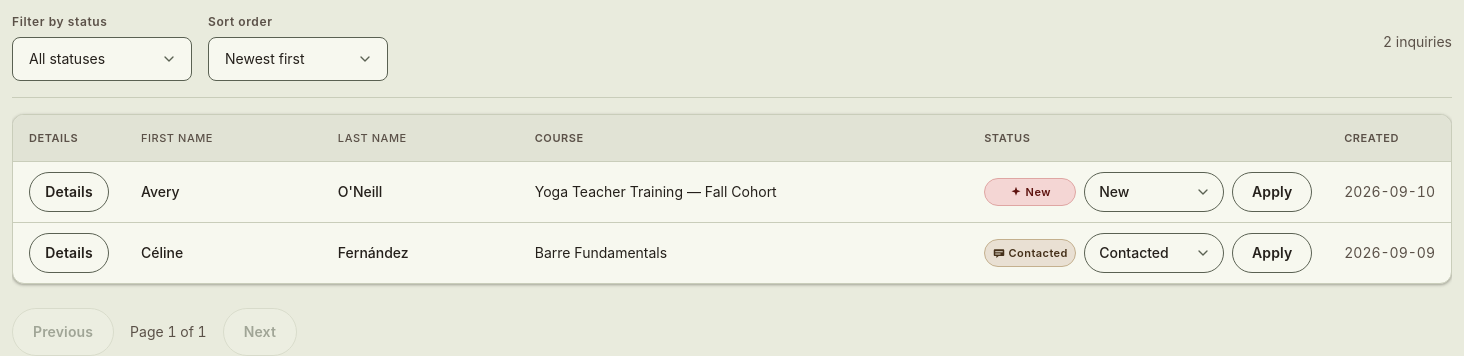
IT-UI-029 success and failure announce in their dedicated regions › routes saved to the status region and failure to the alert region
(page scrolled)
Select "Contacted" in the dropdown named "Status for Avery O'Neill" at (1154, 192), box [1084,172,1224,212]
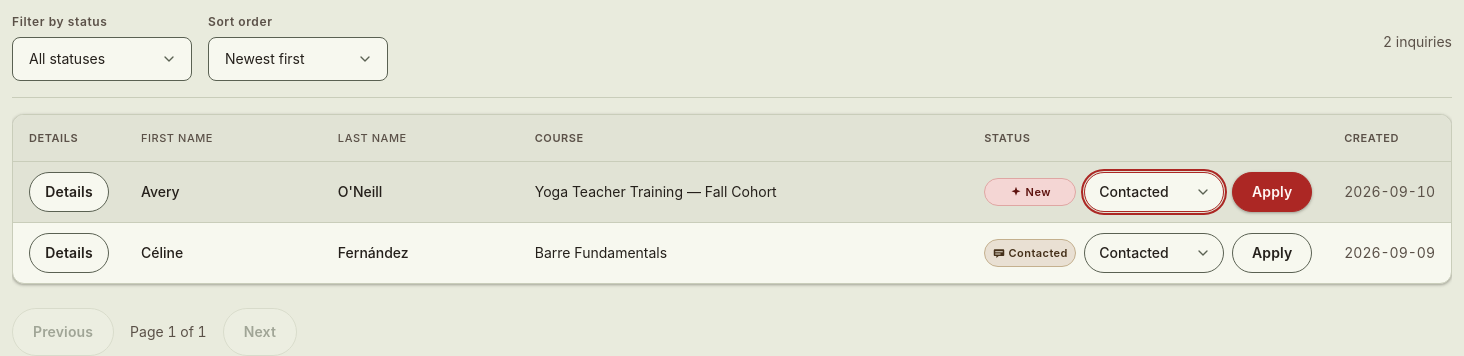
Click the button with aria-label "Apply for Avery O'Neill".
click(1272, 192)  # box [1232,172,1312,212]
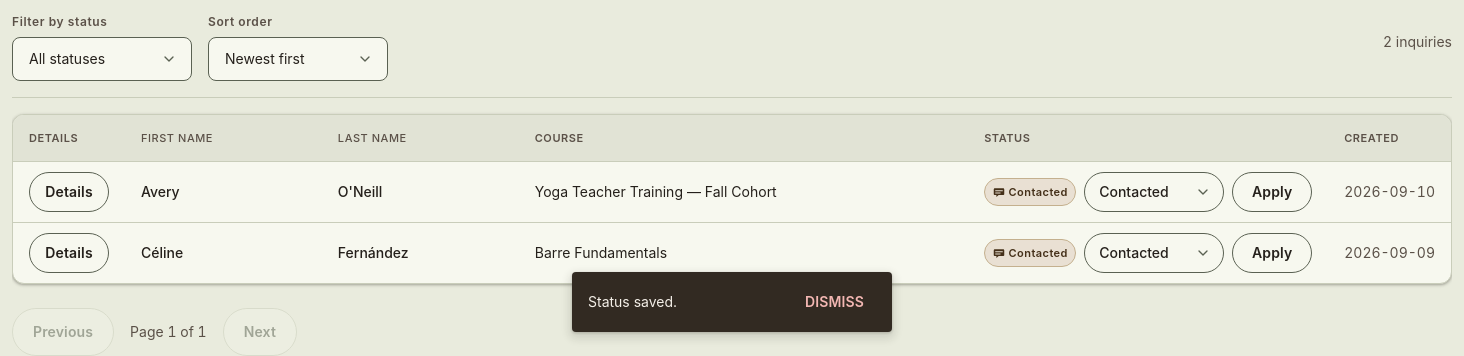
Check: the message shows "saved", box [588,293,677,310]
Check: the text "Contacted" in the row of "Avery" is shown, box [1009,185,1068,199]
Select "Pending" in the dropdown named "Status for Avery O'Neill" at (1154, 192), box [1084,172,1224,212]
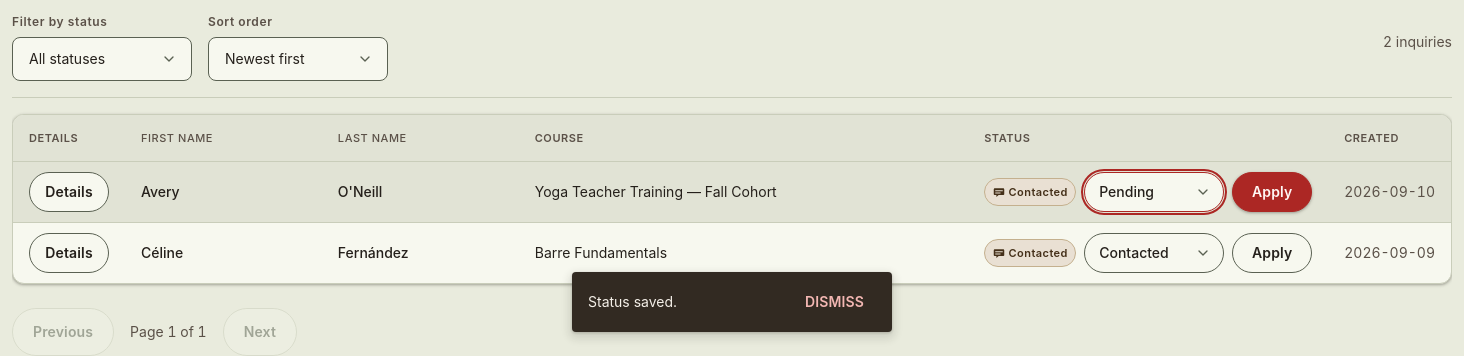
Click the button with aria-label "Apply for Avery O'Neill".
click(1272, 192)  # box [1232,172,1312,212]
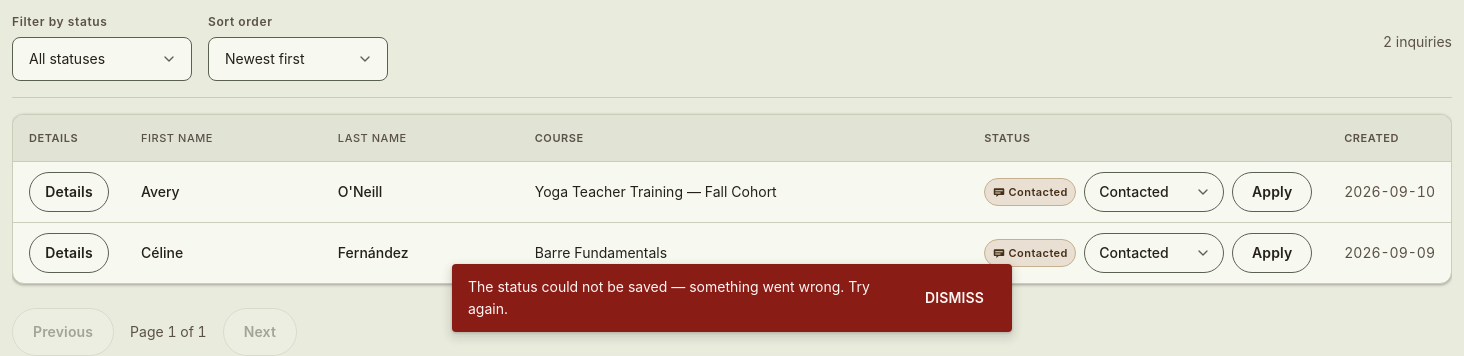
Check: the message reads "The status could not be saved — something went wrong. Try again.", box [468,278,870,317]
